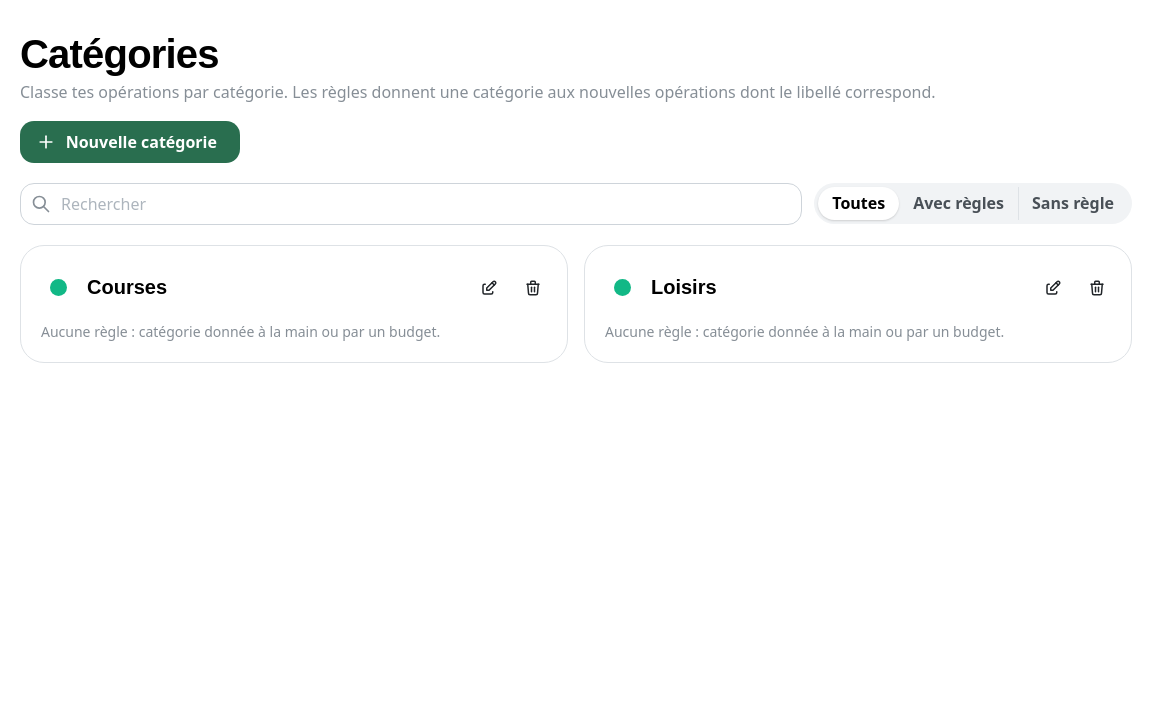
Scenario: CategoriesPage › warns when the colour looks like another category's, apart from the one edited
Click the button named "Modifier Courses".
click(489, 288)  # box x1=467 y1=266 x2=511 y2=310
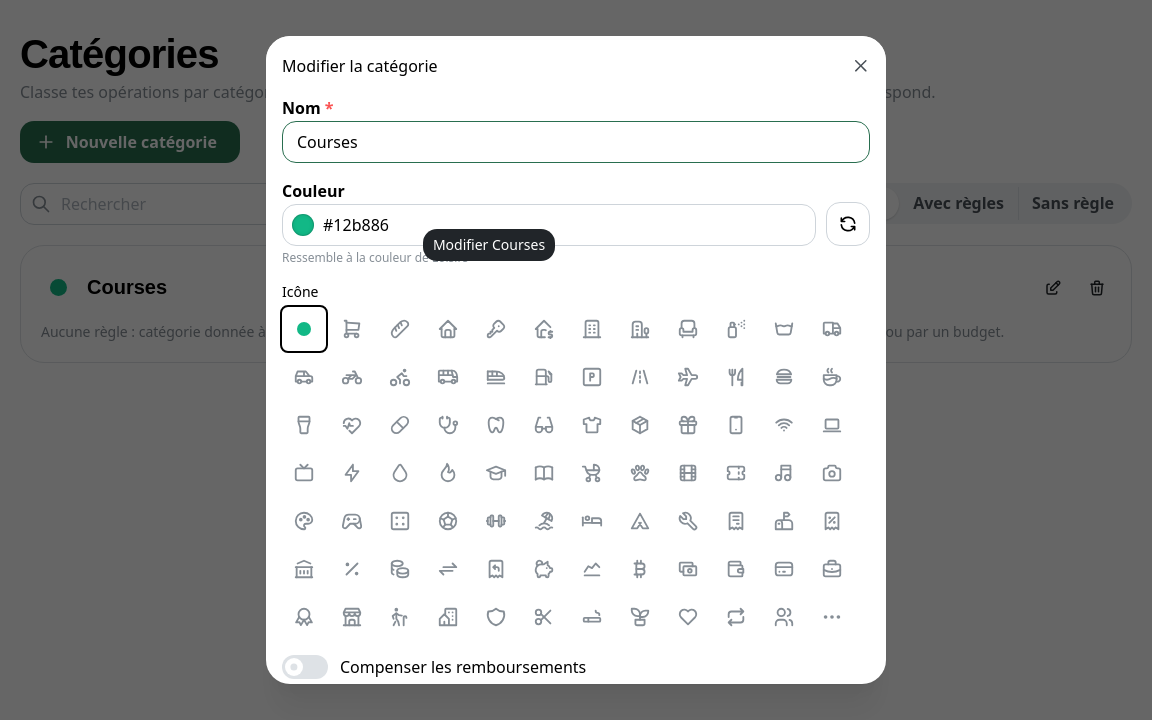
Now the text "Ressemble à la couleur de Loisirs" is shown, box x1=282 y1=249 x2=468 y2=266
